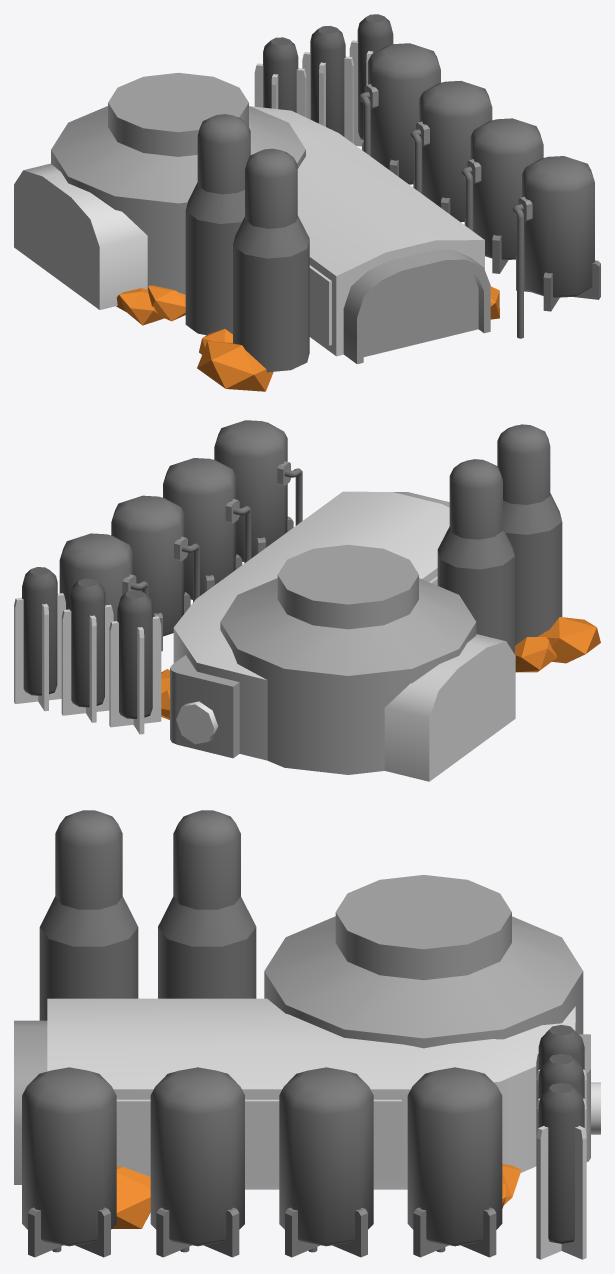
File: Refinery.glb
The picture shows the model from 3 angles, top to bottom: view 1: azimuth 30°, elevation 25°; view 2: azimuth 150°, elevation 25°; view 3: azimuth 270°, elevation 25°; orthographic projection. The views are drawn at different scales.
Parts seen in each view (by area): view 1: Cube, Cube.001, Cylinder.001, Cylinder.038, Cube.046, Cylinder, Cube.002, Icosphere.016, Cylinder.041, Cylinder.027, Cylinder.039; view 2: Cylinder.001, Cube, Cube.001, Cube.002, Cylinder.038, Cylinder, Tunnel.002, Icosphere.016, Tunnel.009, Cylinder.041, Cylinder.040; view 3: Cube.001, Cube, Cylinder.001, Cylinder.038, Cylinder, Cube.002, Cube.046, Icosphere.016, Tunnel.002.
Boxes of the visible parts, x1,y1,x2,y2 form: Cube: (14, 106, 484, 356); Cube.001: (362, 43, 600, 311); Cylinder.001: (51, 72, 305, 294); Cylinder.038: (233, 148, 309, 372); Cube.046: (343, 250, 490, 364); Cylinder: (185, 114, 250, 335); Cube.002: (254, 14, 393, 146); Icosphere.016: (116, 285, 499, 391); Cylinder.041: (512, 204, 523, 338); Cylinder.027: (359, 92, 370, 155); Cylinder.039: (410, 129, 421, 193); Cylinder.001: (220, 544, 476, 774); Cube: (173, 491, 515, 781); Cube.001: (59, 420, 293, 651); Cube.002: (14, 567, 161, 734); Cylinder.038: (497, 424, 562, 645); Cylinder: (437, 459, 514, 653); Tunnel.002: (170, 655, 239, 758); Icosphere.016: (161, 617, 600, 719); Tunnel.009: (176, 701, 217, 744); Cylinder.041: (284, 468, 302, 525); Cylinder.040: (233, 506, 251, 563); Cube.001: (22, 1067, 502, 1257); Cube: (47, 998, 575, 1189); Cylinder.001: (264, 875, 583, 1048); Cylinder.038: (39, 810, 138, 1020); Cylinder: (158, 810, 256, 998); Cube.002: (536, 1024, 586, 1259); Cube.046: (14, 1020, 47, 1184); Icosphere.016: (112, 1163, 521, 1228); Tunnel.002: (579, 1034, 590, 1161).
Bounding box in the file's own units: 5.78 × 3.24 × 5.96.
1 material, 1 textured.
